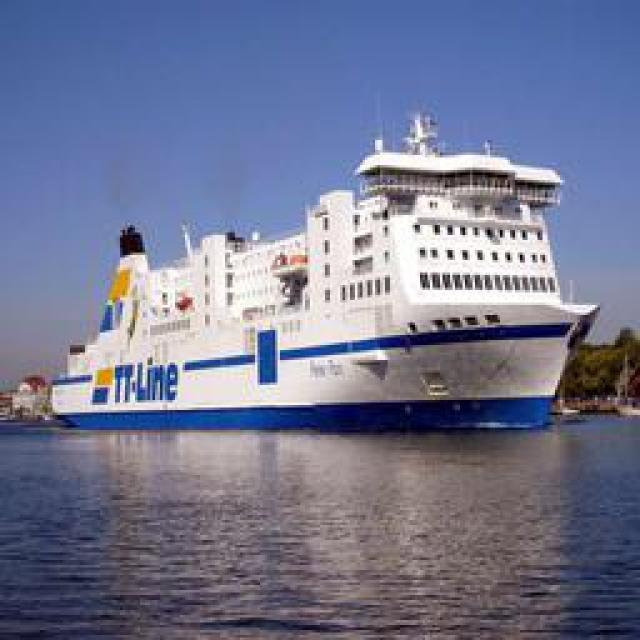Ship: (21, 110, 596, 430)
